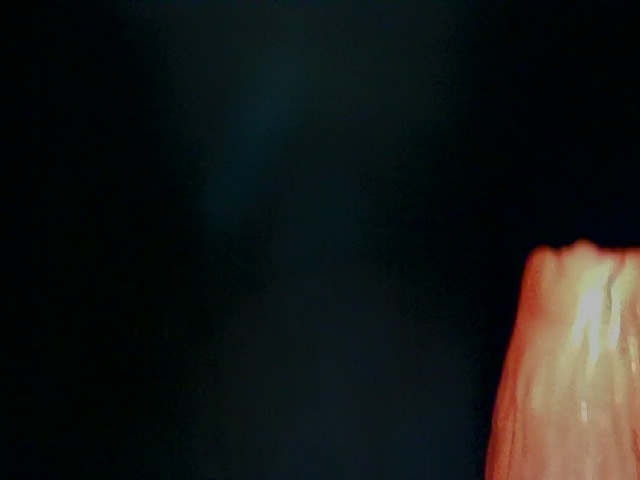QTLJ: (305, 228, 536, 423)
